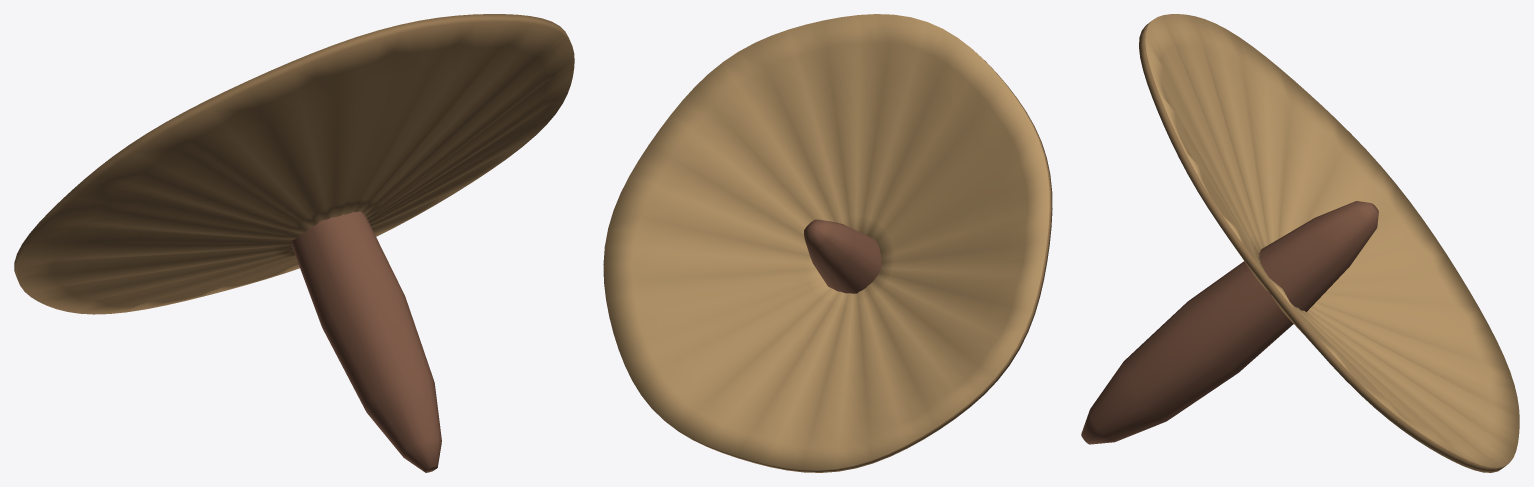
Rendered from dillhoffia.glb.
The picture shows the model from 3 angles, left to right: view 1: azimuth 30°, elevation 25°; view 2: azimuth 150°, elevation 25°; view 3: azimuth 270°, elevation 25°; orthographic projection. The views are drawn at different scales.
Visible parts, largest first — view 1: continuous-unlobed-shallow-funnel-calyx, single-elongated-indehiscent-fruit; view 2: continuous-unlobed-shallow-funnel-calyx, single-elongated-indehiscent-fruit; view 3: continuous-unlobed-shallow-funnel-calyx, single-elongated-indehiscent-fruit.
Boxes of the visible parts, left/top/right/bottom form: continuous-unlobed-shallow-funnel-calyx: left=14, top=14, right=574, bottom=314; single-elongated-indehiscent-fruit: left=292, top=211, right=441, bottom=472; continuous-unlobed-shallow-funnel-calyx: left=603, top=14, right=1052, bottom=472; single-elongated-indehiscent-fruit: left=804, top=219, right=881, bottom=293; continuous-unlobed-shallow-funnel-calyx: left=1139, top=14, right=1519, bottom=472; single-elongated-indehiscent-fruit: left=1081, top=201, right=1378, bottom=444.
Bounding box in the file's own units: 0.0502 × 0.0391 × 0.0387.
